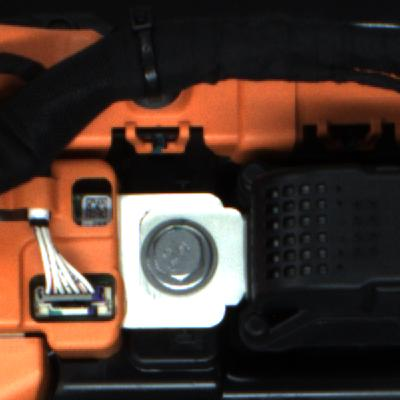nut_b: (136, 210, 251, 299)
